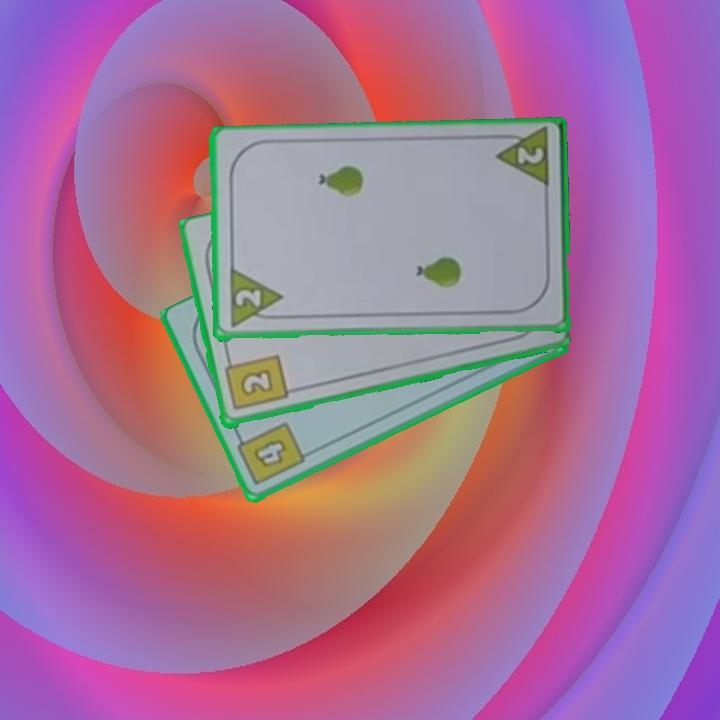2b: (220, 352, 290, 414)
2p: (225, 267, 286, 331), (492, 127, 552, 192)
4b: (232, 418, 309, 489)
